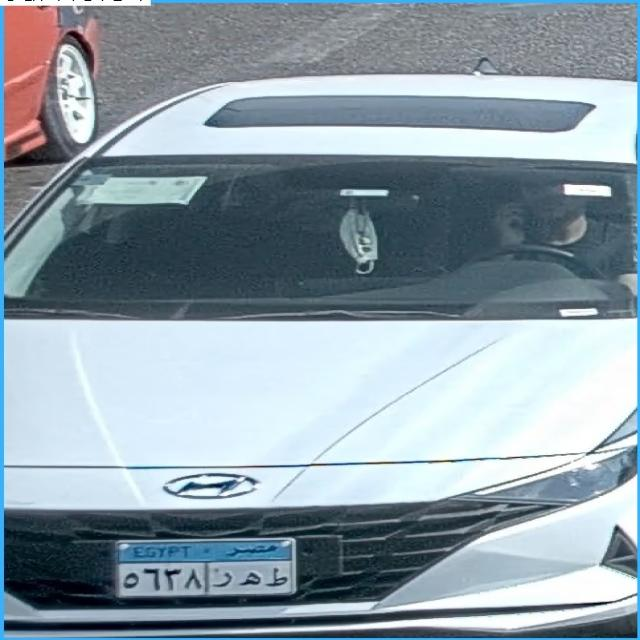windshield: (22, 150, 640, 321)
